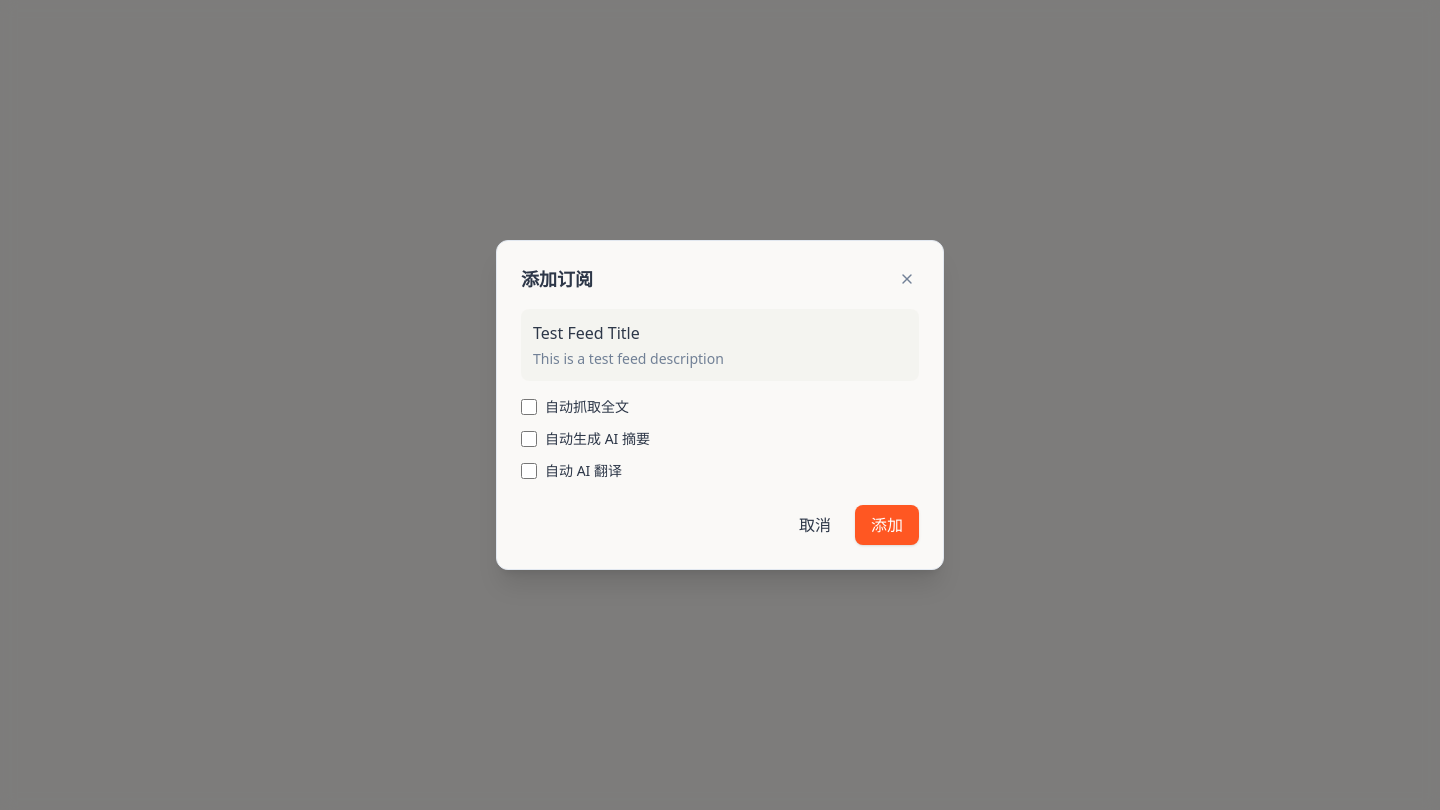
it: AddFromDiscoverDialog › 复选框交互测试 › toggles AI summary checkbox
Expected: the checkbox labelled "自动生成 AI 摘要" is not checked, [521, 431, 537, 447]
Click the text "自动生成 AI 摘要" at (598, 439), box [545, 429, 650, 449]
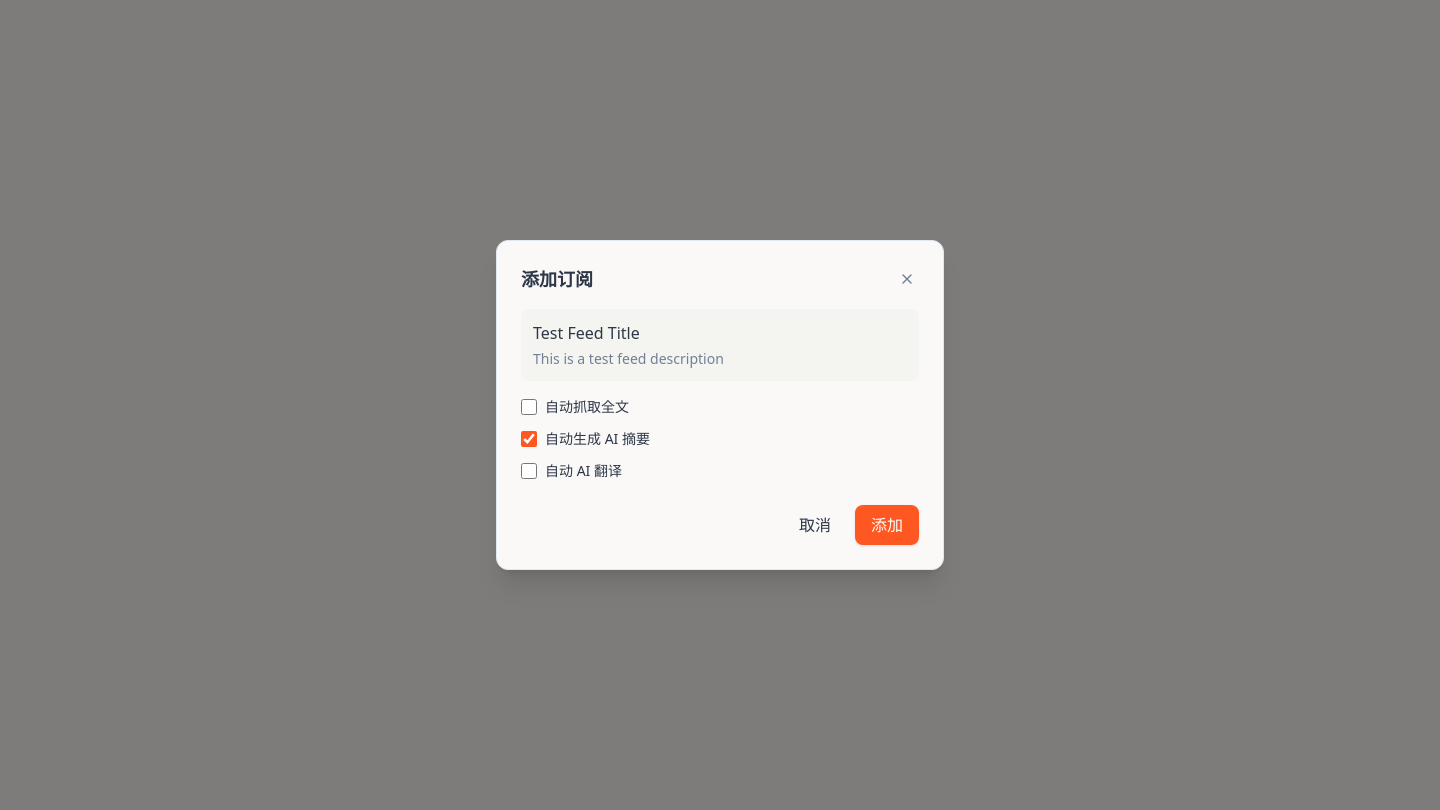
Result: the checkbox labelled "自动生成 AI 摘要" is checked at [521, 431, 537, 447]
